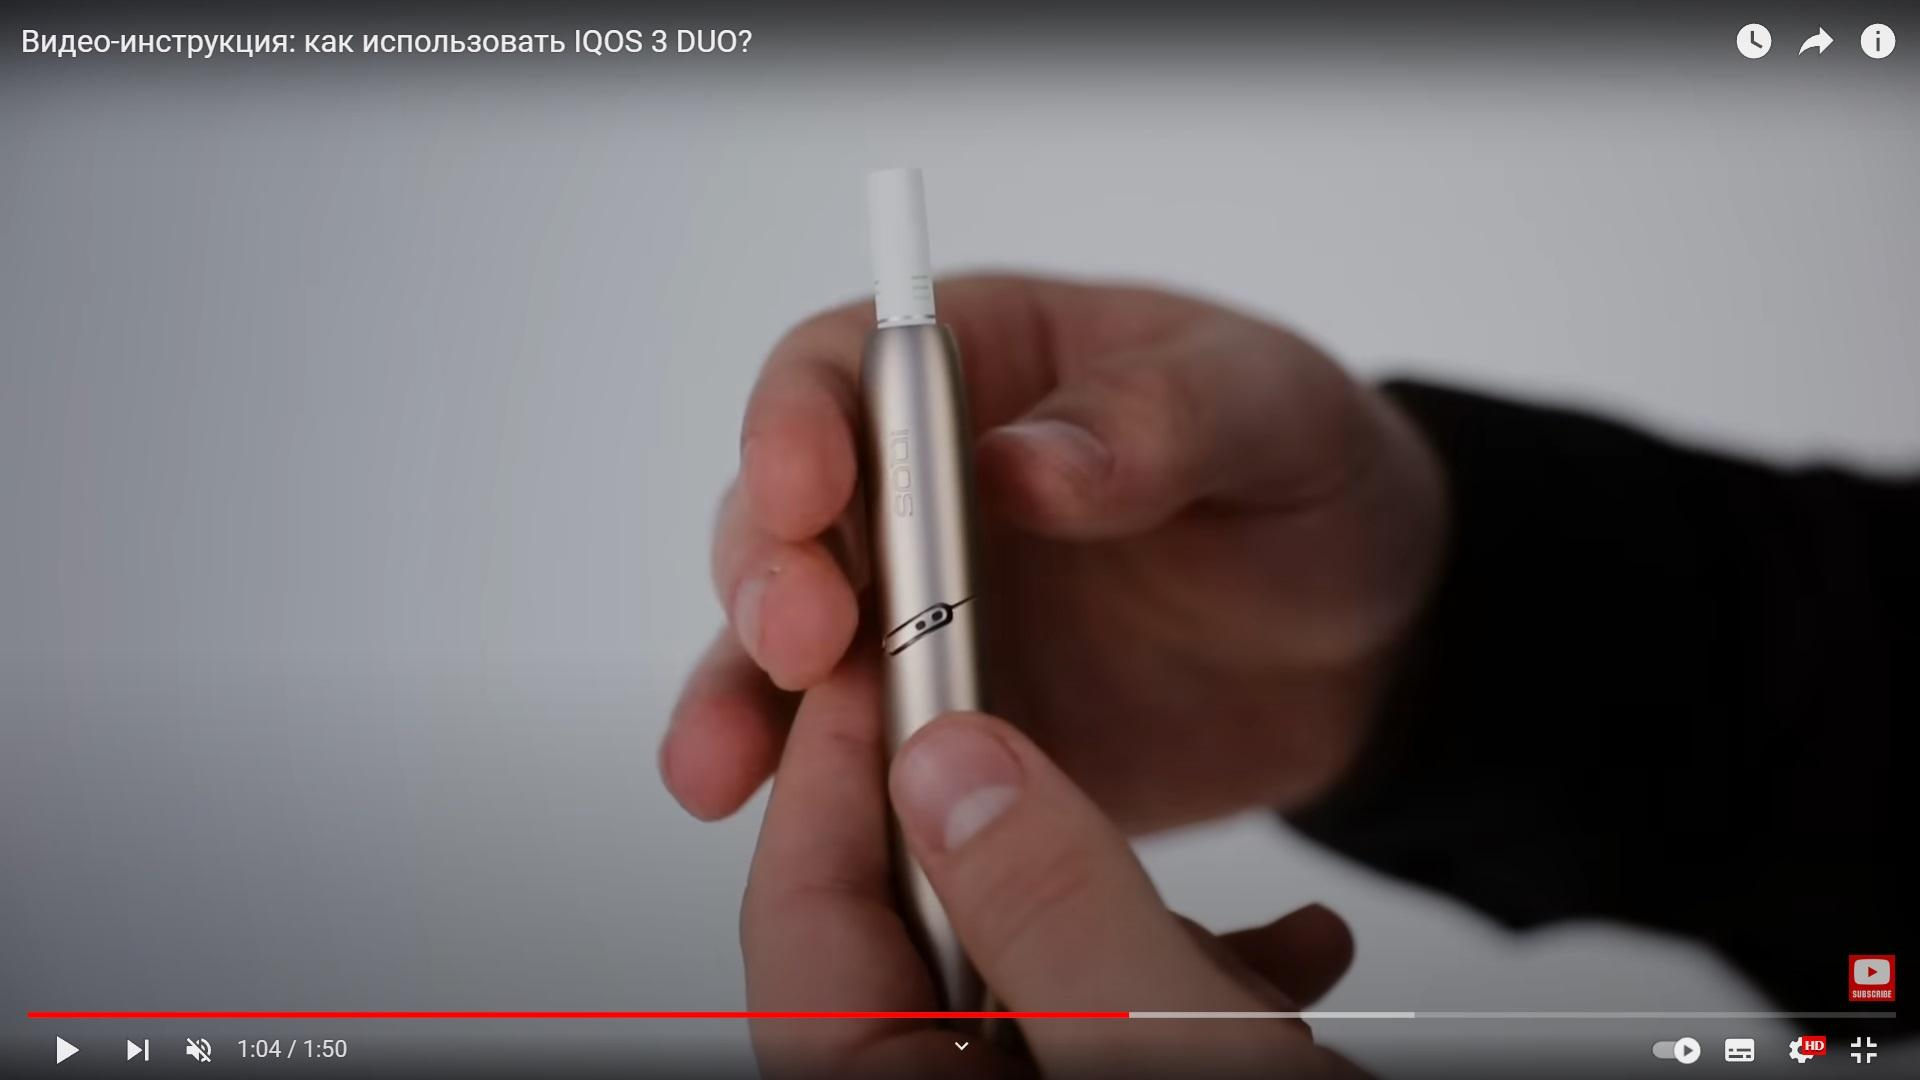iqos: (856, 167, 990, 1015)
